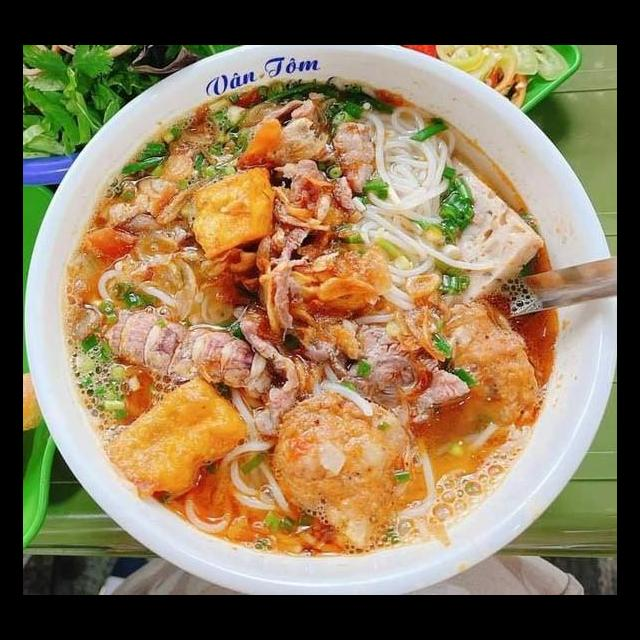bun: (339, 101, 499, 330), (179, 379, 293, 537)
dau hu: (100, 373, 252, 504), (184, 162, 280, 260)
tom tit: (70, 299, 287, 402)
